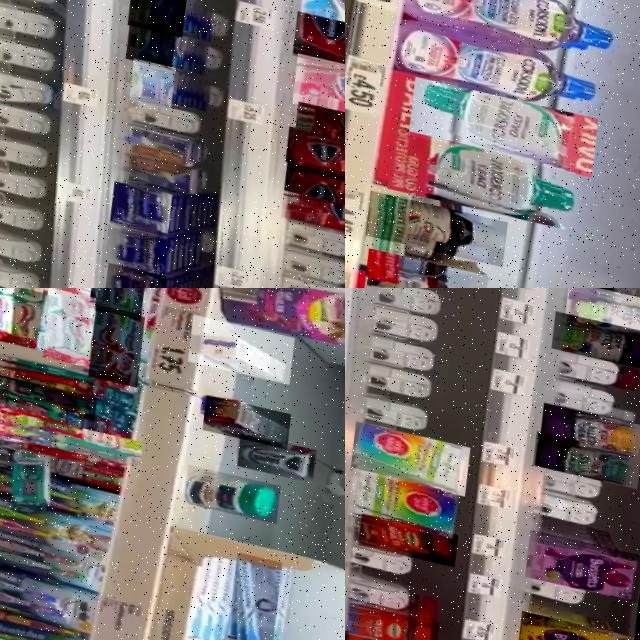Other: (386, 10, 610, 118), (381, 122, 580, 224), (403, 70, 597, 169), (359, 185, 504, 260), (345, 415, 467, 489), (518, 522, 639, 594), (198, 288, 345, 345), (345, 461, 454, 532), (526, 422, 638, 480), (534, 393, 640, 451), (355, 242, 484, 288), (178, 461, 278, 520), (546, 302, 640, 361), (352, 507, 454, 561), (286, 46, 345, 118), (232, 429, 313, 478), (103, 177, 169, 236), (287, 4, 345, 71), (277, 151, 345, 208), (345, 596, 433, 640), (509, 603, 613, 640), (280, 119, 345, 177), (274, 183, 345, 236), (97, 220, 165, 273), (560, 288, 640, 331), (290, 94, 345, 143), (121, 16, 175, 65), (124, 54, 174, 105), (95, 258, 162, 288), (345, 625, 426, 640), (564, 288, 640, 302)
Toothbrush: (0, 403, 139, 464), (0, 464, 119, 535), (0, 492, 113, 563), (0, 526, 98, 593), (0, 563, 87, 636), (0, 370, 94, 419), (0, 350, 92, 400), (0, 387, 81, 437)
Toothpaste: (183, 310, 293, 380), (217, 547, 280, 640), (82, 304, 145, 386), (197, 391, 289, 445), (36, 288, 95, 366), (0, 288, 43, 349), (83, 288, 149, 317)
